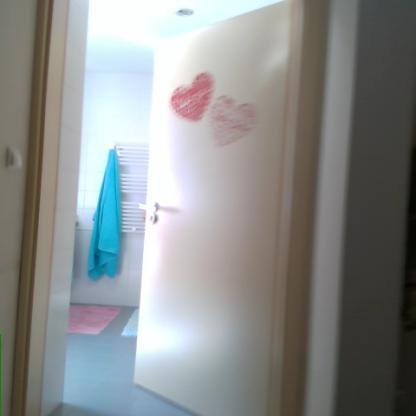semi: (39, 0, 320, 416)
